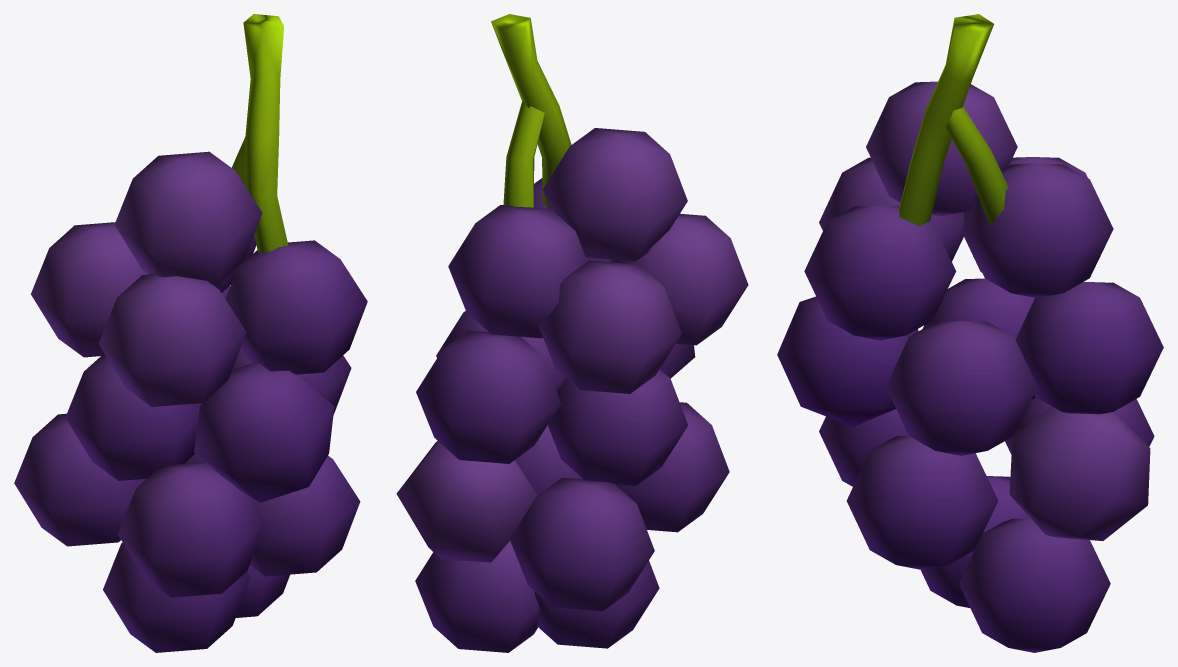
The model's file is grape.glb.
3 renders of one model, left to right at view 1: azimuth 30°, elevation 25°; view 2: azimuth 150°, elevation 25°; view 3: azimuth 270°, elevation 25°, orthographic. The views are drawn at different scales.
Parts seen in each view (by area): view 1: SM_Grape2; view 2: SM_Grape2; view 3: SM_Grape2.
Boxes of the visible parts, x1=… form: SM_Grape2: x1=14, y1=14, x2=367, y2=652; SM_Grape2: x1=396, y1=14, x2=748, y2=652; SM_Grape2: x1=777, y1=14, x2=1163, y2=652.
Bounding box in the file's own units: 0.3452 × 0.8144 × 0.4529.
1 material, 1 textured.
